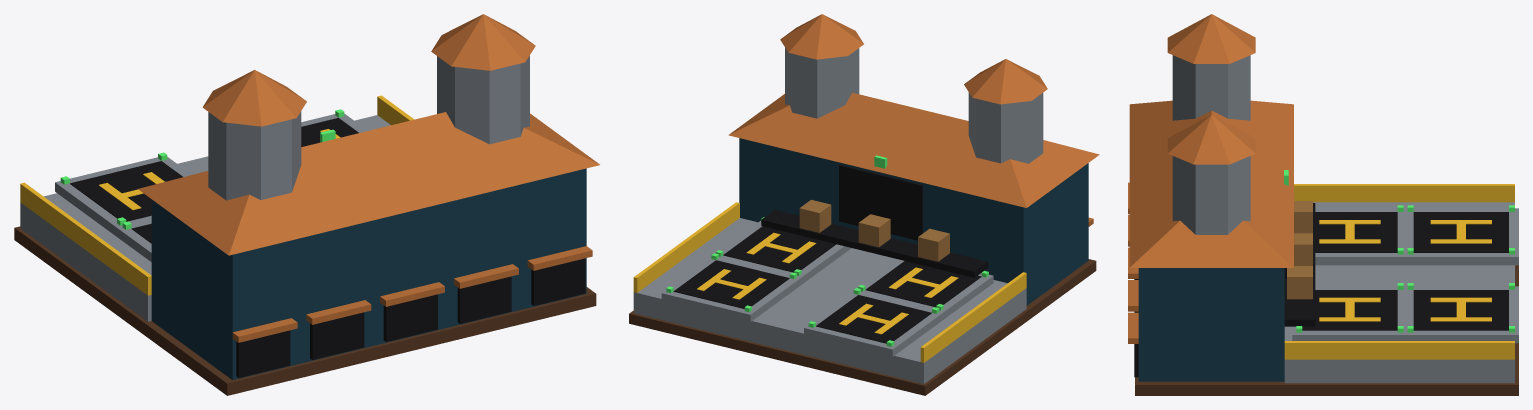
Rendered from drone_unload_station.obj.
3 renders of one model, left to right at view 1: azimuth 30°, elevation 25°; view 2: azimuth 150°, elevation 25°; view 3: azimuth 270°, elevation 25°, orthographic. The views are drawn at different scales.
Parts seen in each view (by area): view 1: Store, Base; view 2: Store, Base, PadLamps; view 3: Store, Base, PadLamps.
Boxes of the visible parts, x1=… form: Store: x1=138, y1=14, x2=599, y2=380; Base: x1=14, y1=95, x2=596, y2=395; Store: x1=728, y1=14, x2=1099, y2=305; Base: x1=629, y1=202, x2=1096, y2=395; PadLamps: x1=666, y1=217, x2=988, y2=346; Store: x1=1128, y1=14, x2=1315, y2=381; Base: x1=1135, y1=184, x2=1518, y2=395; PadLamps: x1=1296, y1=205, x2=1514, y2=332.
Bounding box in the file's own units: 5.04 × 3.6 × 5.09.
